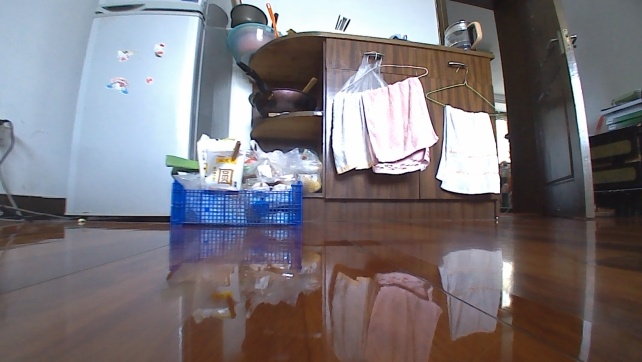door_anno: (493, 0, 602, 222)
refrigerator: (61, 0, 230, 224)
wire: (0, 114, 59, 223)
